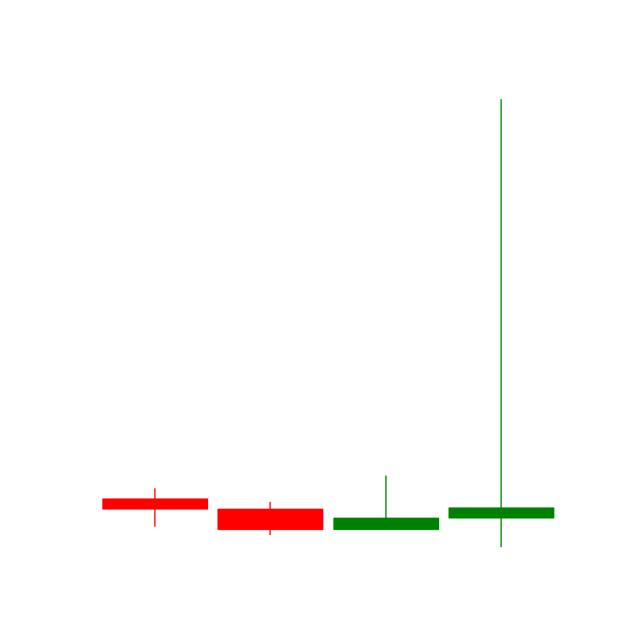Gravenstone Doji: (443, 94, 559, 552), (333, 474, 439, 530)
spinning top: (214, 498, 326, 540), (100, 486, 212, 528)
